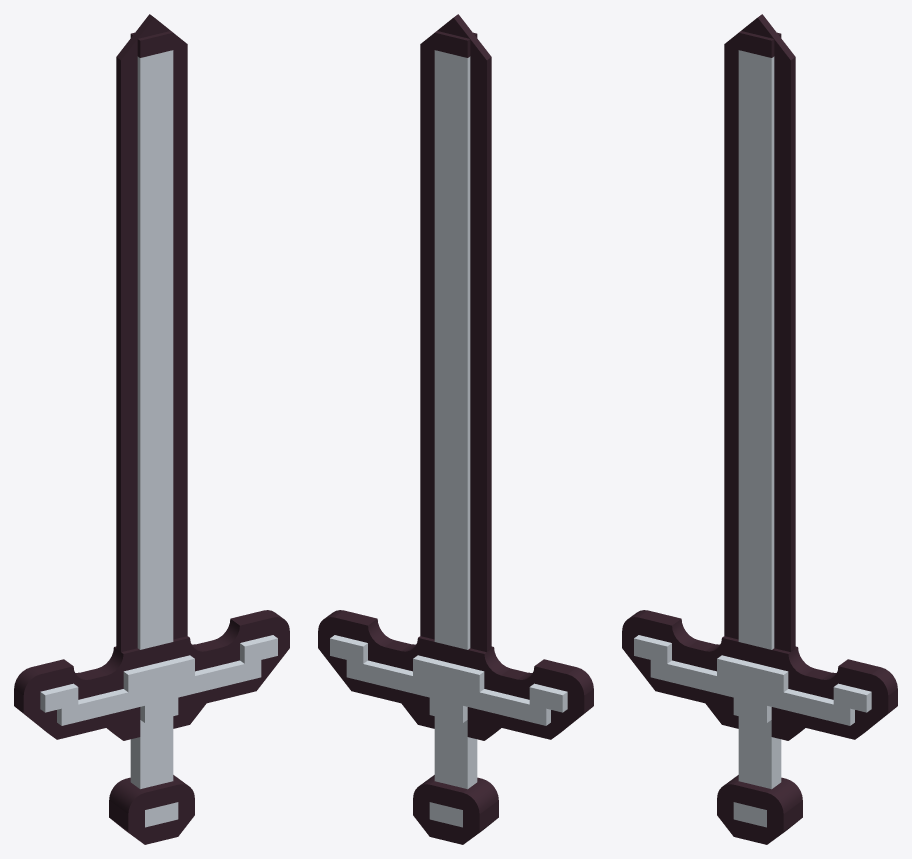
The model's file is Sword.fbx.
3 views of the same model, side by side, from view 1: azimuth 30°, elevation 25°; view 2: azimuth 150°, elevation 25°; view 3: azimuth 330°, elevation 25° (orthographic).
Parts seen in each view (by area): view 1: generated; view 2: generated; view 3: generated.
Part boxes in pixels (left/top/right/bottom): generated: left=14, top=14, right=289, bottom=844; generated: left=318, top=14, right=593, bottom=844; generated: left=622, top=14, right=897, bottom=844.
Size of the model in its own units: 640 by 1880 by 80.
